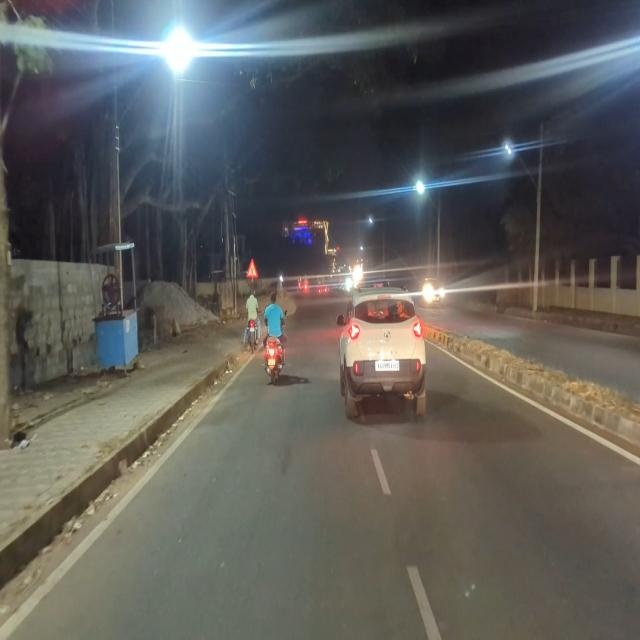bien_nguy_hiem: (245, 257, 259, 278)
